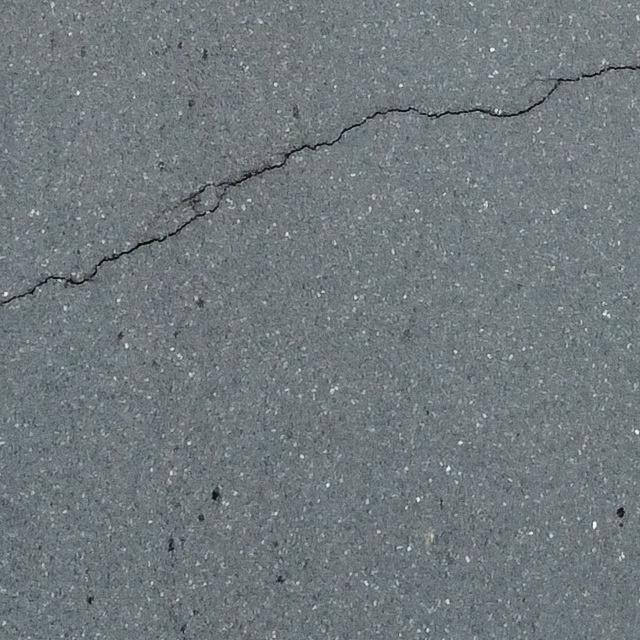TransverseCrack: (1, 64, 640, 303)
